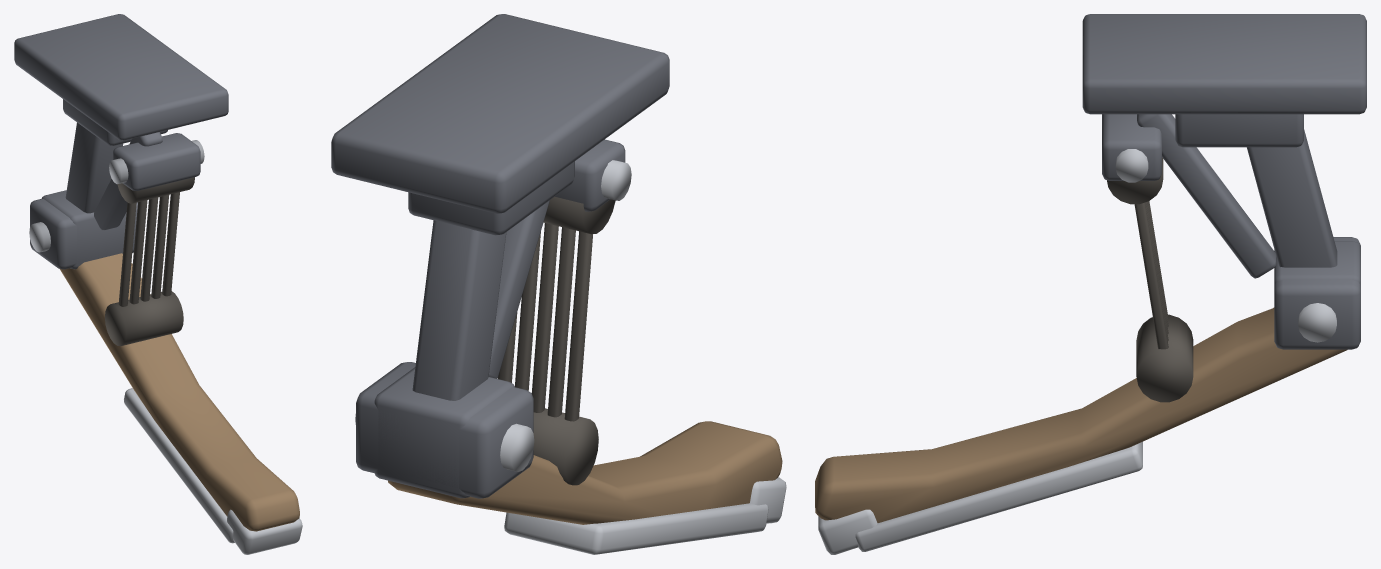
File: wheel_skid.glb
The picture shows the model from 3 angles, left to right: view 1: azimuth 30°, elevation 25°; view 2: azimuth 150°, elevation 25°; view 3: azimuth 270°, elevation 25°; orthographic projection. The views are drawn at different scales.
Visible parts, largest first — view 1: SkidMesh, LegMesh; view 2: LegMesh, SkidMesh; view 3: LegMesh, SkidMesh.
Part boxes in pixels (x1,y1,x2,y2): SkidMesh: (42, 177, 302, 554); LegMesh: (14, 14, 228, 269); LegMesh: (331, 14, 669, 498); SkidMesh: (374, 196, 786, 554); LegMesh: (1082, 14, 1366, 349); SkidMesh: (815, 157, 1360, 554).
Bounding box in the file's own units: 0.112 × 0.3633 × 0.3688.
